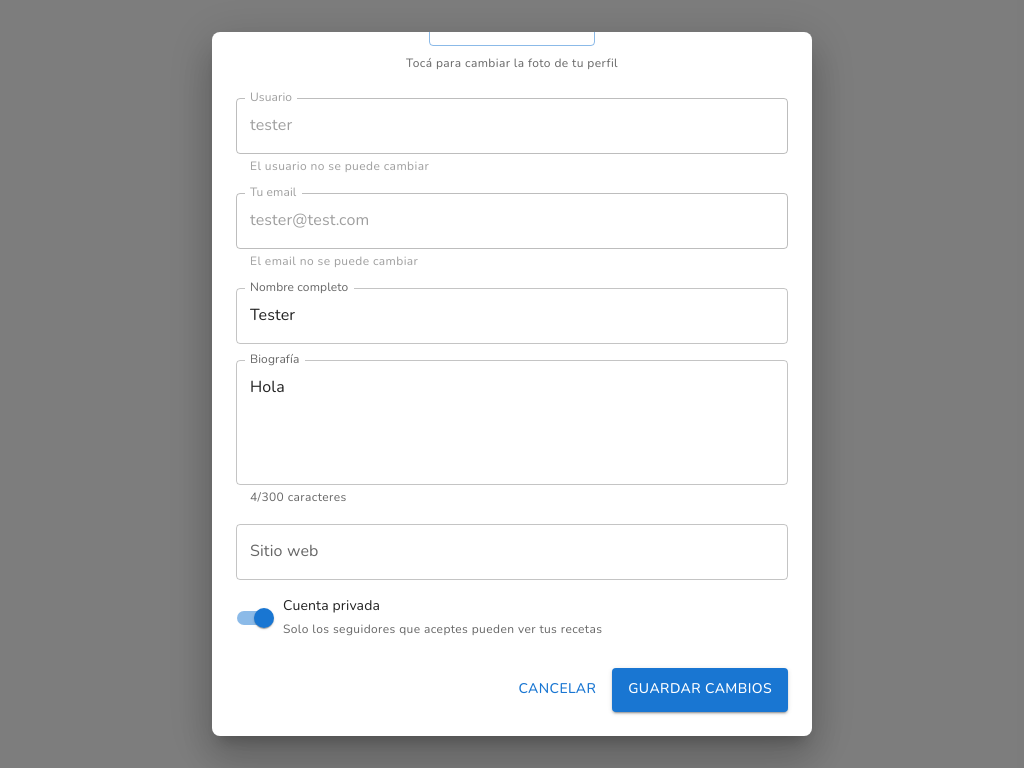
EditProfileModal in Spanish › should warn in Spanish that going public accepts the pending requests
(page scrolled)
Step 1. Click the checkbox labelled "Cuenta privada" → click(254, 618), box 225,596 -> 602,640
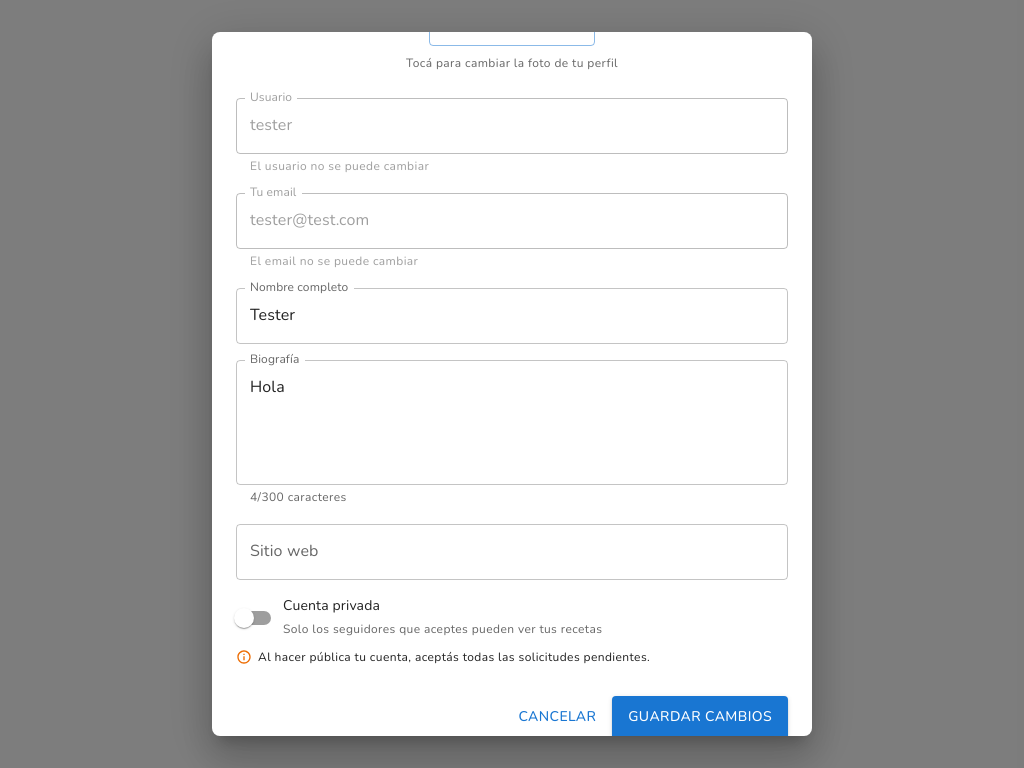
Expected: the text "Al hacer pública tu cuenta, aceptás todas las solicitudes pendientes." is shown, 258,648 -> 650,668
